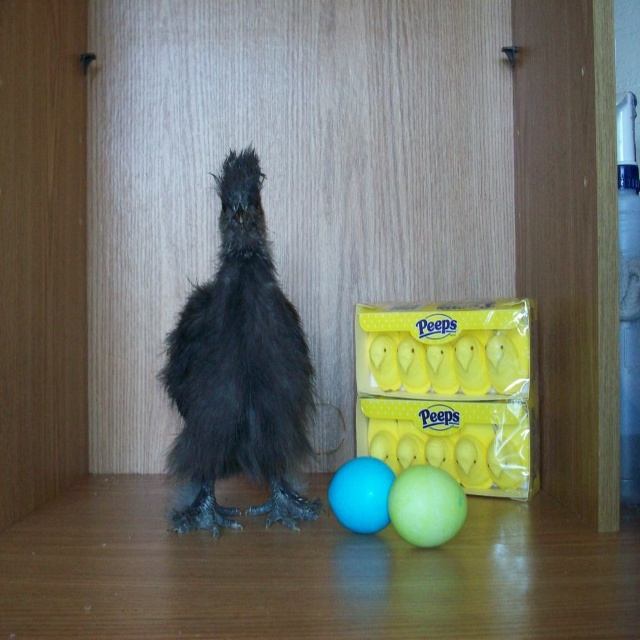Chicken: (157, 149, 240, 548)
